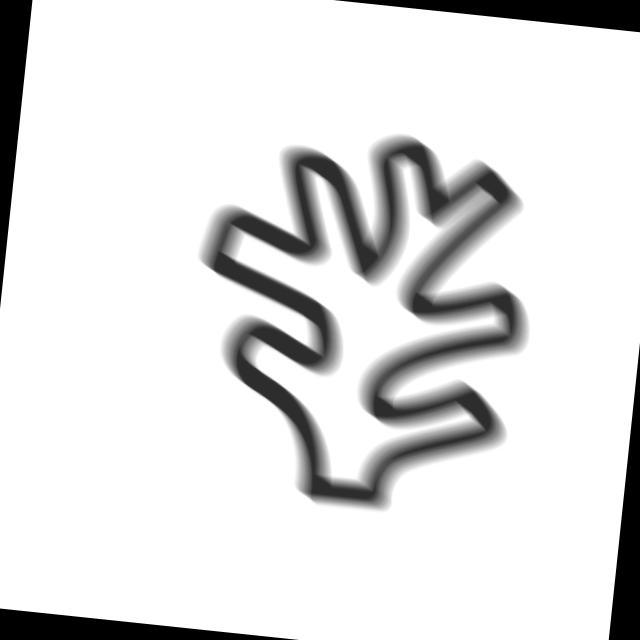coral: (166, 110, 555, 534)
